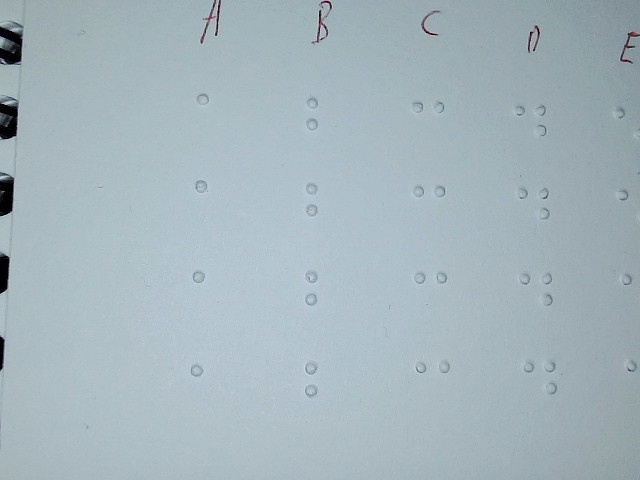A: (190, 87, 232, 153), (188, 173, 230, 239), (186, 263, 228, 329), (185, 356, 227, 422)
B: (298, 91, 342, 158), (299, 177, 343, 244), (299, 265, 343, 332), (297, 354, 341, 421)
C: (405, 94, 453, 162), (407, 179, 455, 247), (408, 265, 456, 333), (409, 355, 457, 423)
